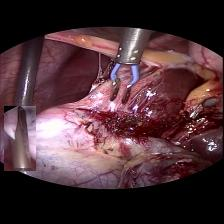Bipolar: (107, 46, 145, 102)
Grasper: (4, 105, 36, 170)
